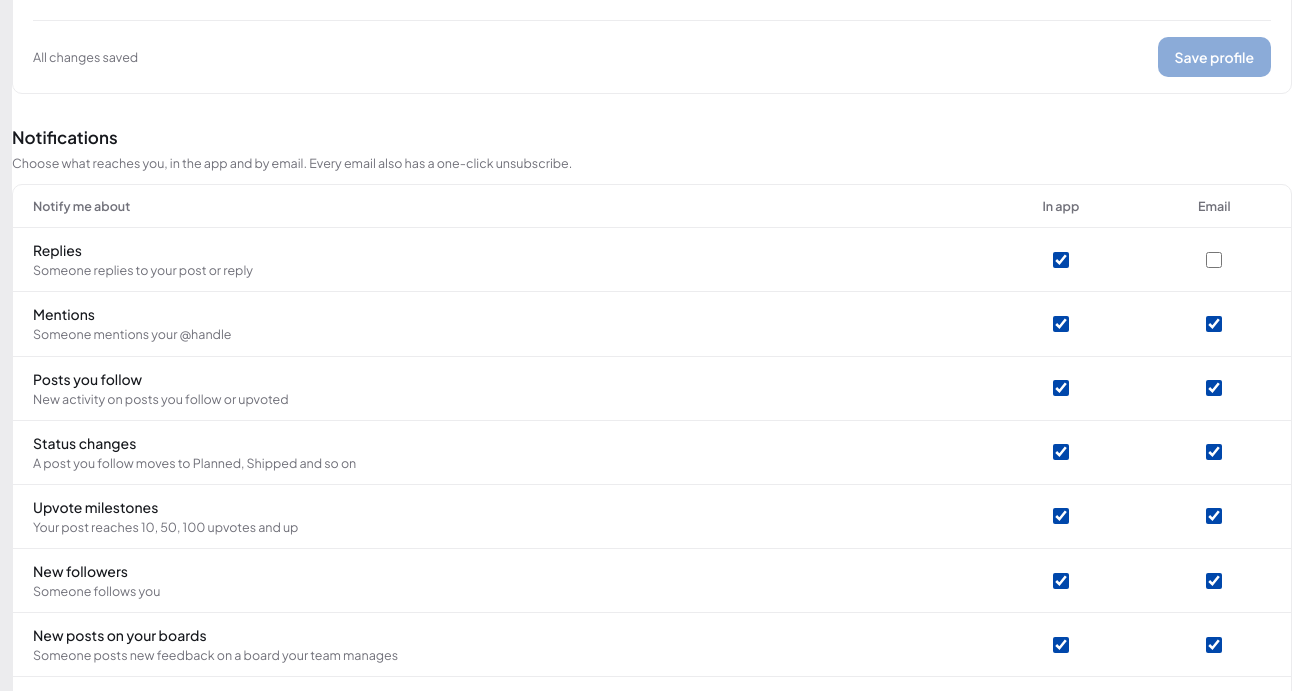
Test: notification preferences › shows every kind × channel and saves a toggle as an upsert
The image size is (1292, 691).
(page scrolled)
Expected: the checkbox named "New posts on your boards: In app" is shown, [1053,637,1069,653]
Expected: the checkbox named "New posts on your boards: Email" is shown, [1206,637,1222,653]
Click the checkbox named "Mentions: Email": (1214, 324) [1206,316,1222,332]
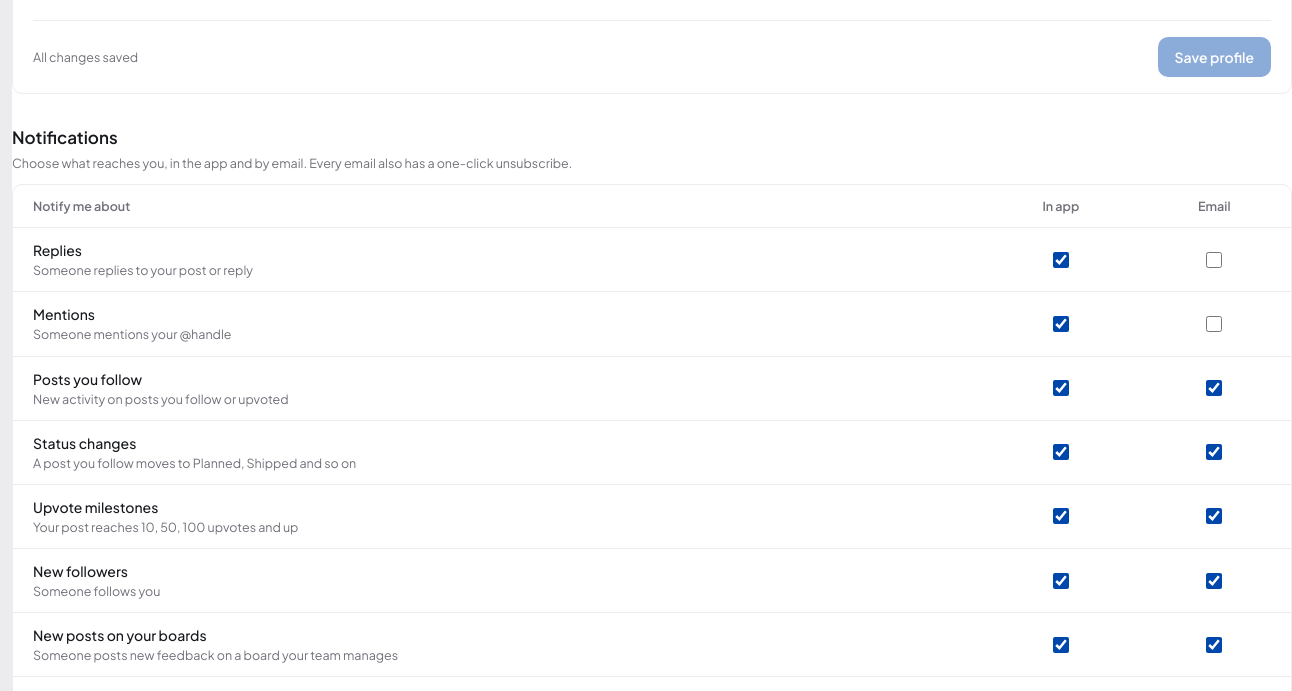
Expected: the checkbox named "Mentions: Email" is not checked, [1206,316,1222,332]
